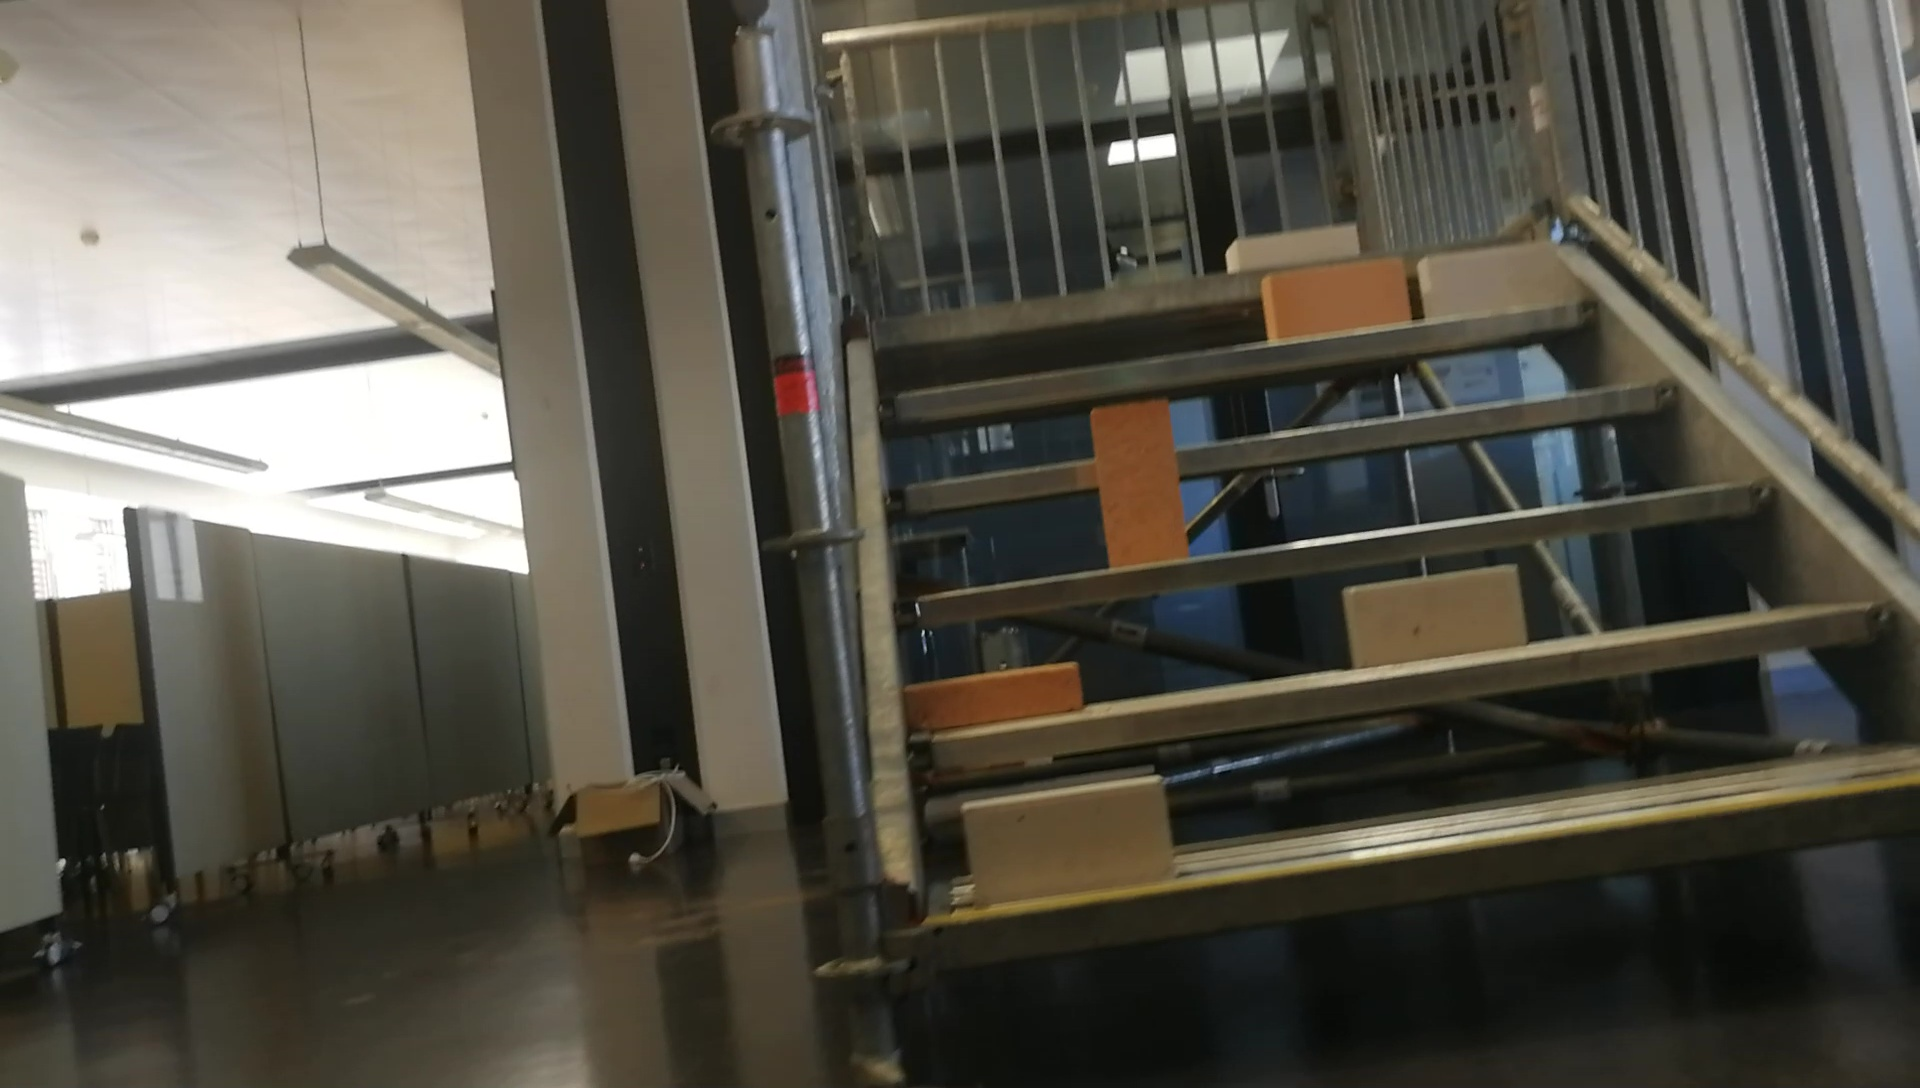brick: (965, 775, 1168, 906), (1345, 566, 1524, 661), (1091, 402, 1185, 567), (902, 659, 1080, 729), (1261, 257, 1406, 335), (1420, 243, 1557, 320), (1228, 226, 1357, 266)
edge: (938, 786, 1917, 973), (909, 600, 1898, 765), (898, 480, 1772, 625), (884, 382, 1677, 513), (884, 301, 1600, 415)
steps: (849, 204, 1920, 1004)
